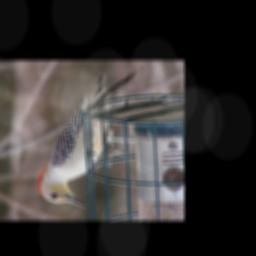Woodpecker: (35, 69, 138, 210)
